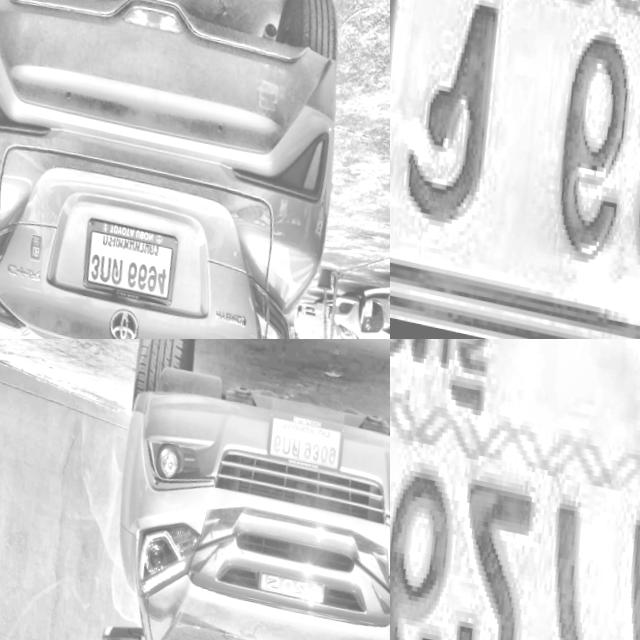license-plate: (390, 0, 640, 339), (390, 339, 640, 640), (67, 212, 179, 309), (258, 404, 346, 471), (354, 289, 367, 317)
